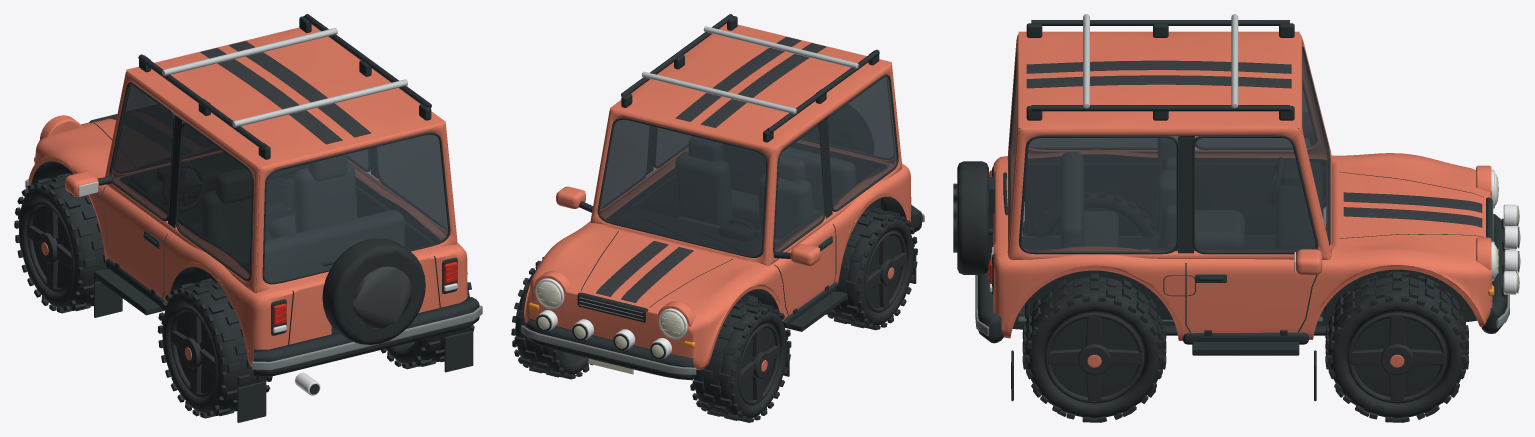
Rendered from tanuki_lod1.fbx.
3 views of the same model, side by side, from view 1: azimuth 30°, elevation 25°; view 2: azimuth 150°, elevation 25°; view 3: azimuth 270°, elevation 25° (orthographic). The views are drawn at different scales.
Visible parts, largest first — view 1: Body, Wheel_RL_Mesh, Wheel_FL_Mesh, Wheel_RR_Mesh; view 2: Body, Wheel_FL_Mesh, Wheel_RL_Mesh, Wheel_FR_Mesh; view 3: Body, Wheel_FR_Mesh, Wheel_RR_Mesh, Wheel_RL_Mesh.
Boxes of the visible parts, x1,y1,x2,y2 form: Body: (25,14,482,422); Wheel_RL_Mesh: (157,278,272,418); Wheel_FL_Mesh: (14,173,107,313); Wheel_RR_Mesh: (380,273,474,369); Body: (521,14,924,380); Wheel_FL_Mesh: (690,299,791,422); Wheel_RL_Mesh: (826,206,917,330); Wheel_FR_Mesh: (511,257,592,379); Body: (953,14,1520,401); Wheel_FR_Mesh: (1325,271,1469,422); Wheel_RR_Mesh: (1022,273,1166,422); Wheel_RL_Mesh: (1023,190,1157,236).
Bounding box in the file's own units: 225 × 212 × 360.
